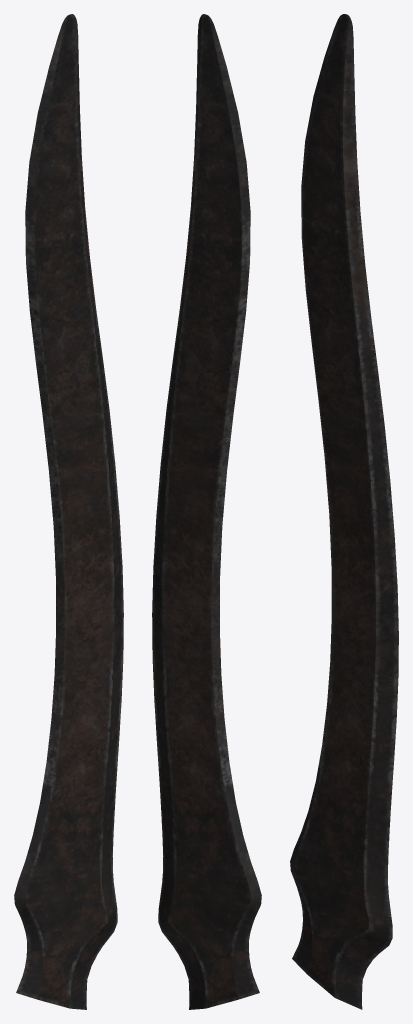
The model's file is wm_dol_goldur_1h_sword_a02_blade.fbx.
3 renders of one model, left to right at view 1: azimuth 30°, elevation 25°; view 2: azimuth 150°, elevation 25°; view 3: azimuth 330°, elevation 25°, orthographic.
Parts seen in each view (by area): view 1: wm_dol_goldur_1h_sword_a02_blade; view 2: wm_dol_goldur_1h_sword_a02_blade; view 3: wm_dol_goldur_1h_sword_a02_blade.
Part boxes in pixels (x1,y1,x2,y2): wm_dol_goldur_1h_sword_a02_blade: (14, 14, 123, 1009); wm_dol_goldur_1h_sword_a02_blade: (152, 14, 261, 1009); wm_dol_goldur_1h_sword_a02_blade: (290, 14, 398, 1009).
Size of the model in its own units: 0.085 by 0.0161 by 0.7399.
1 material, 1 textured.
